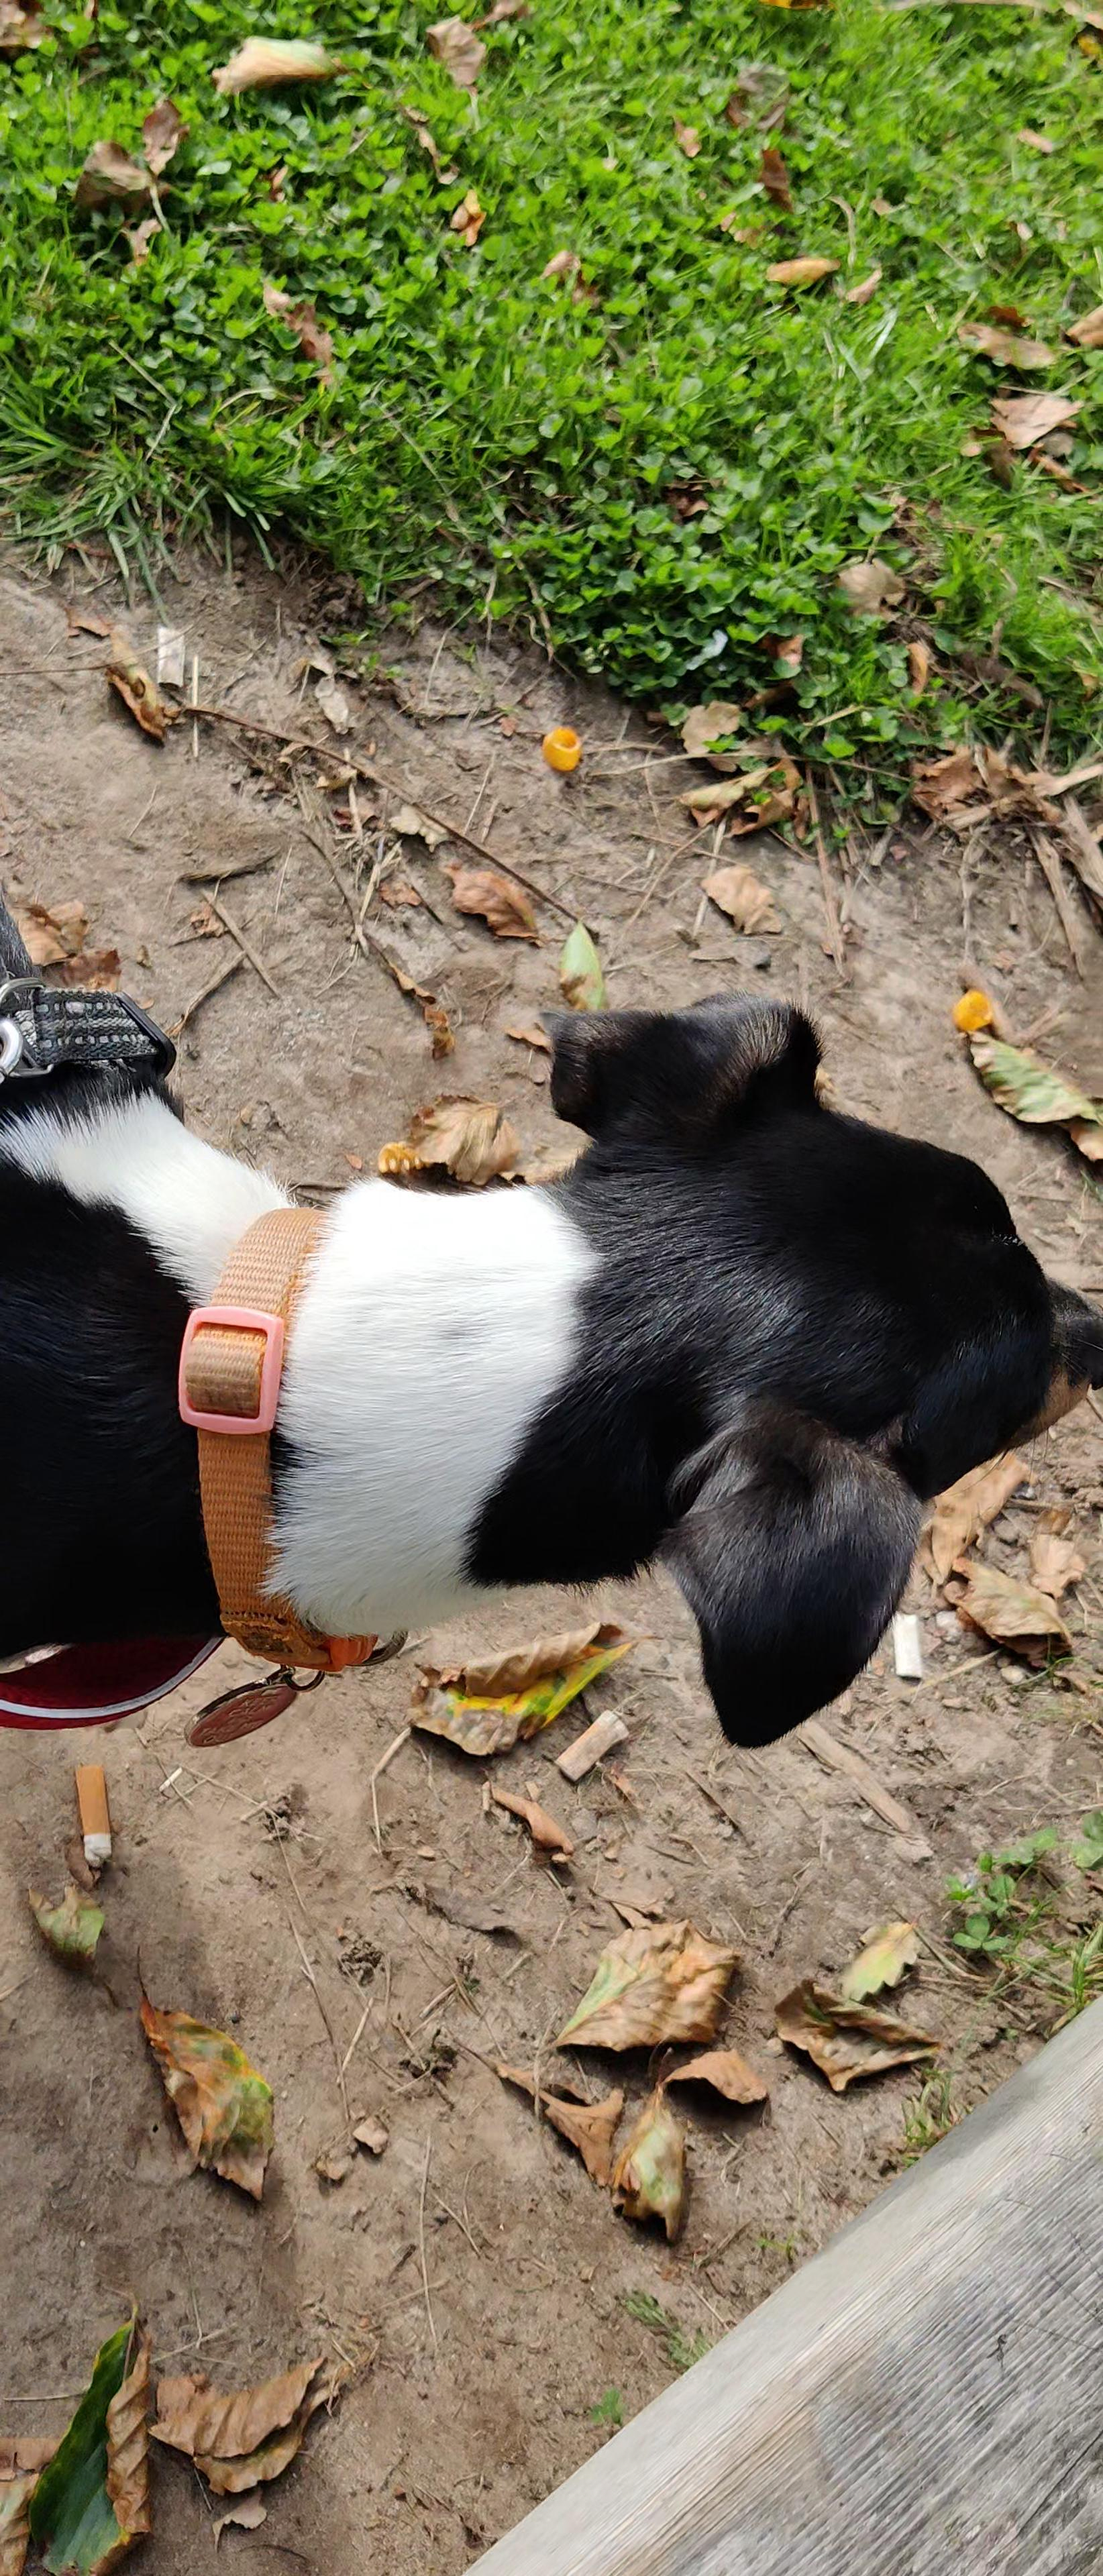Dog: (0, 984, 1103, 1764)
